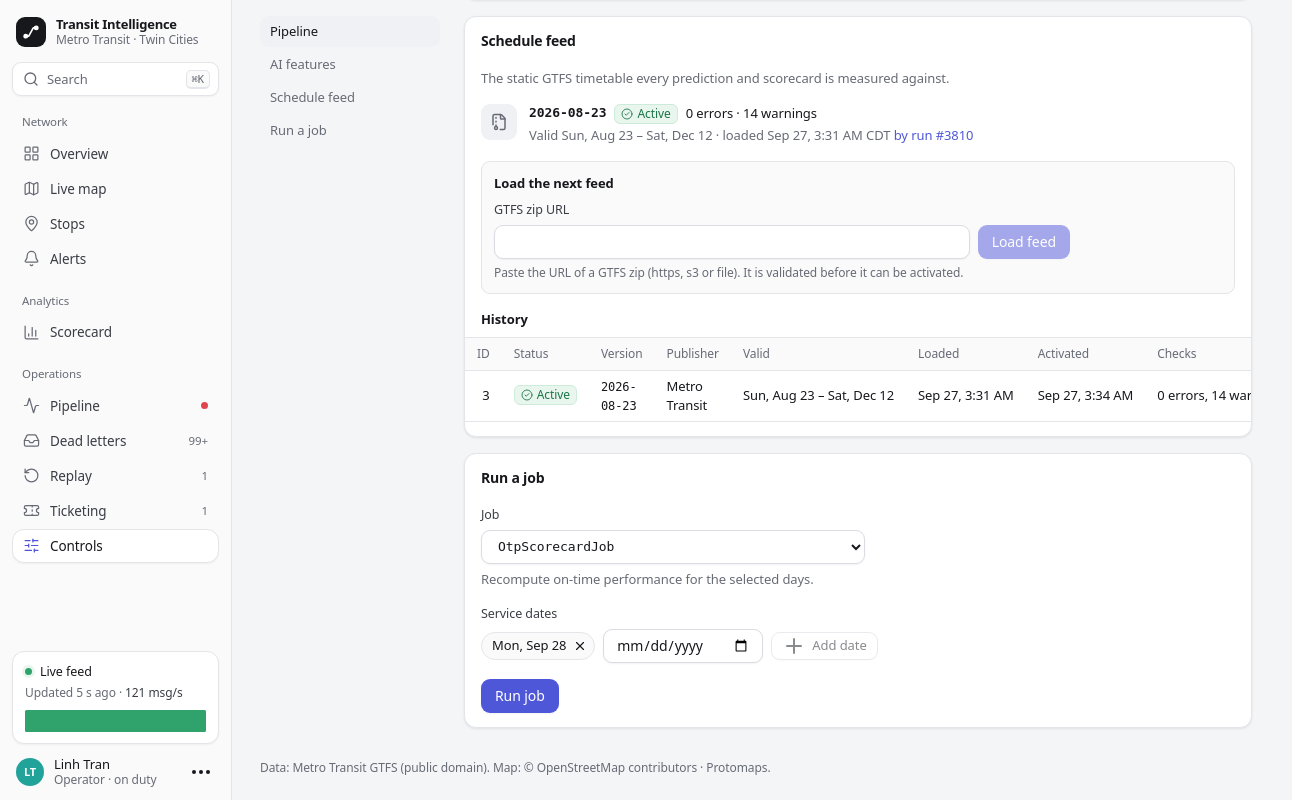
Test: Controls: Run a job › refuses today without sending anything (AC-6)
(page scrolled)
Expected: the text "Mon, Sep 28" is shown, [492, 636, 566, 655]
Type "2026-09-29" into the date field named "Add date".
click(683, 646); type("2026-09-29")  # box [603, 629, 763, 663]
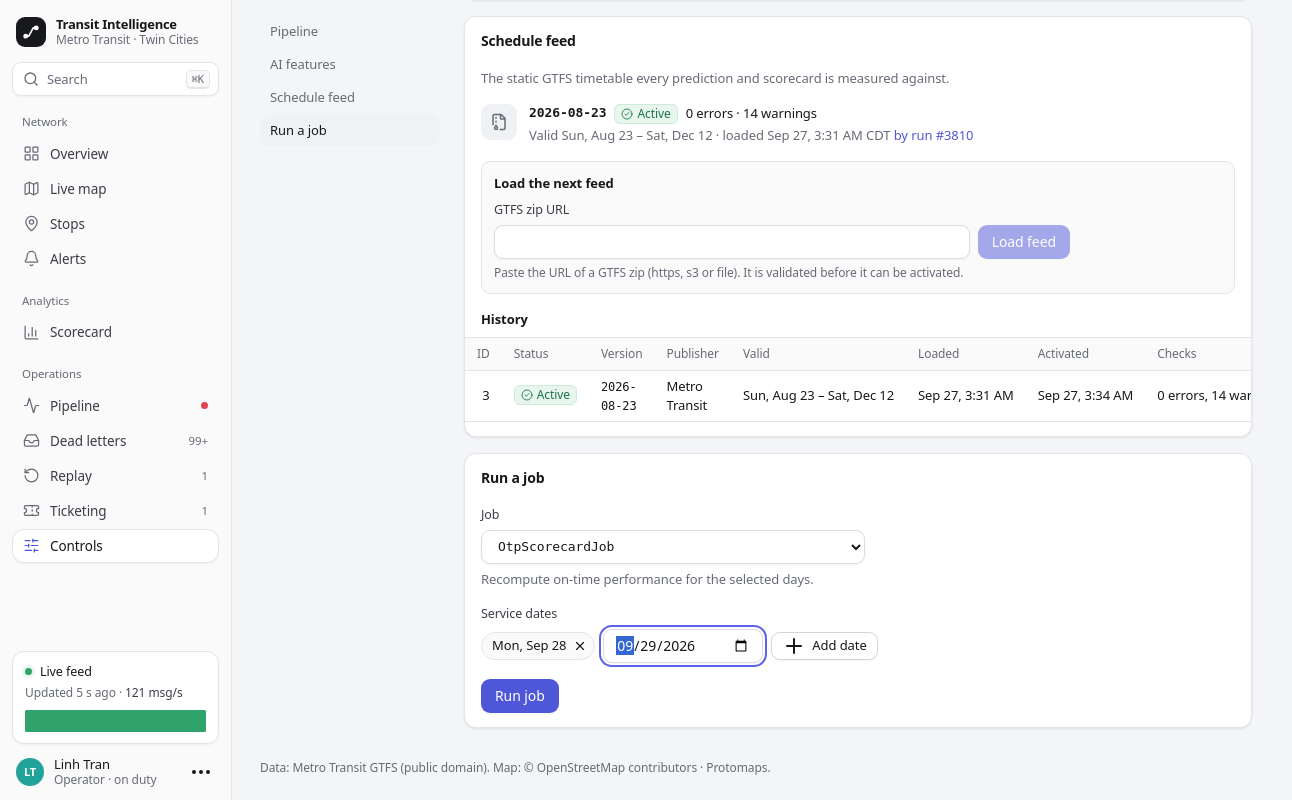
Click the button "Add date".
click(825, 646)  # box [771, 632, 878, 660]
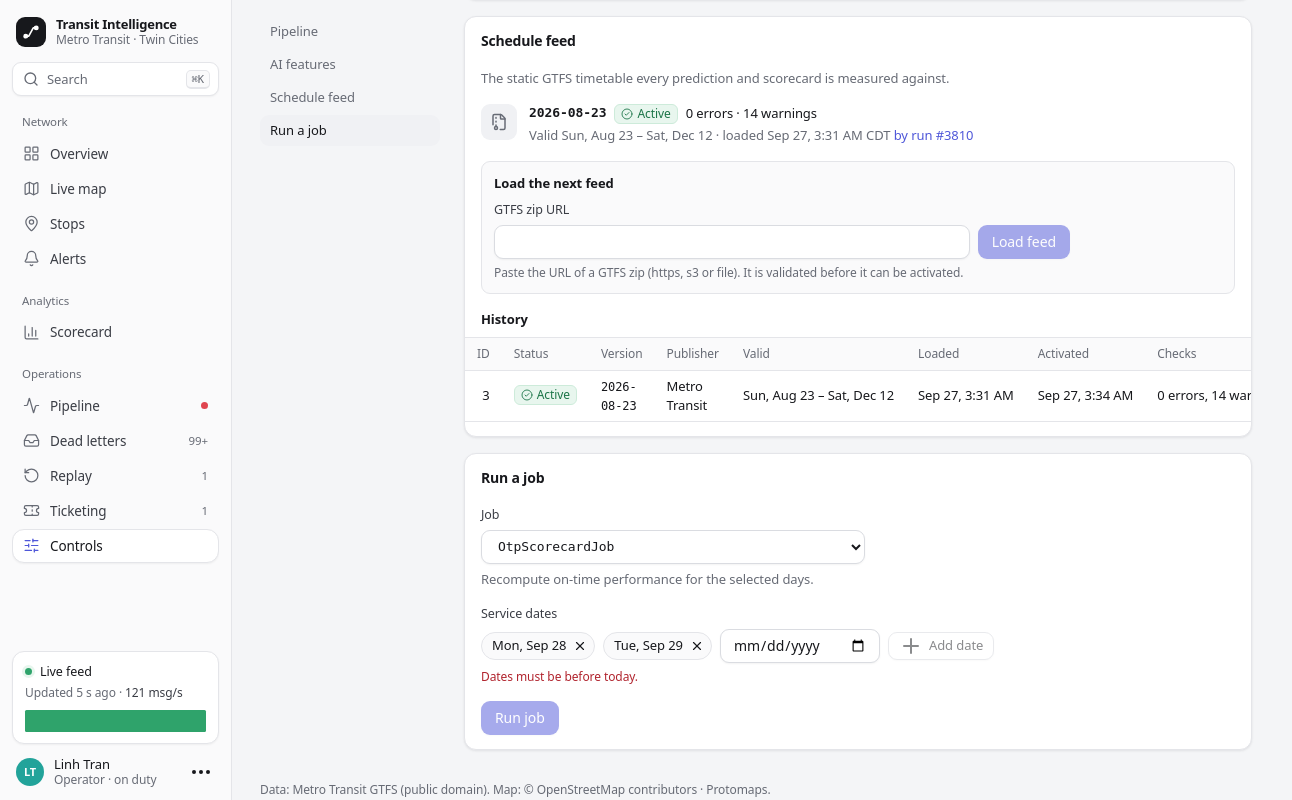
Result: the text "Dates must be before today." is shown at [481, 668, 638, 685]
Result: the button "Run job" is disabled at [481, 701, 559, 735]
